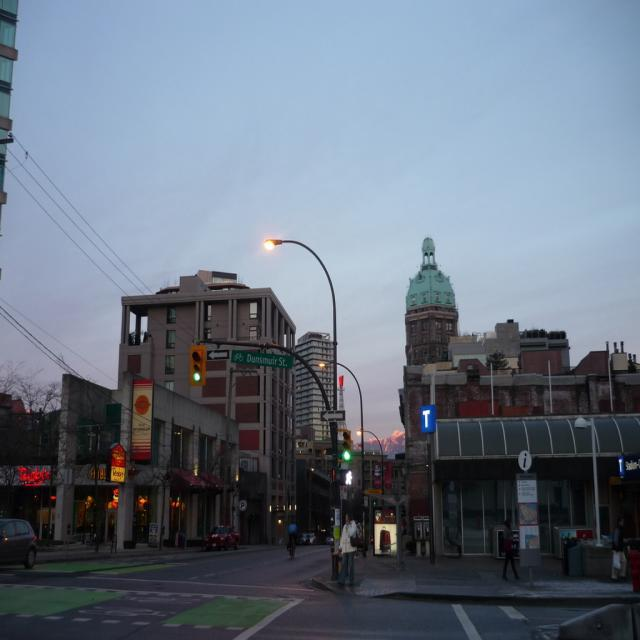traffic light: (190, 348, 204, 383)
